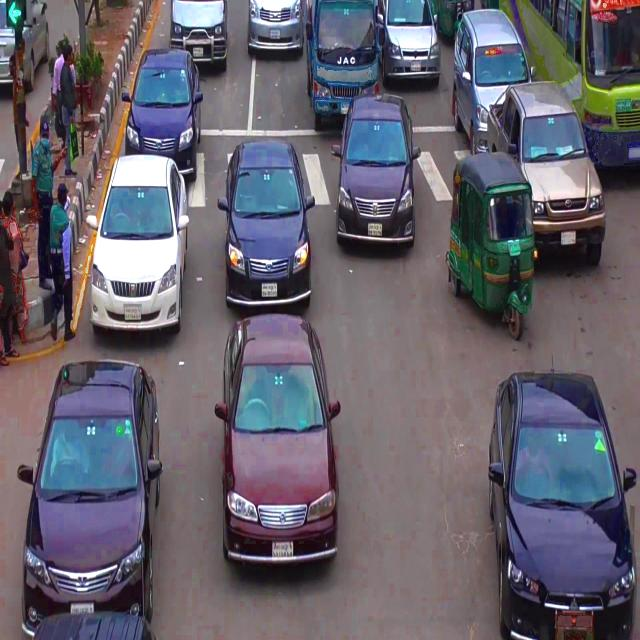black: (486, 373, 639, 640)
maroon: (18, 354, 164, 617), (220, 313, 340, 565), (223, 143, 314, 310), (337, 84, 418, 260), (123, 43, 206, 172)
silver: (488, 95, 606, 250), (453, 7, 530, 134), (378, 0, 441, 86), (249, 0, 305, 61), (171, 0, 227, 59)
